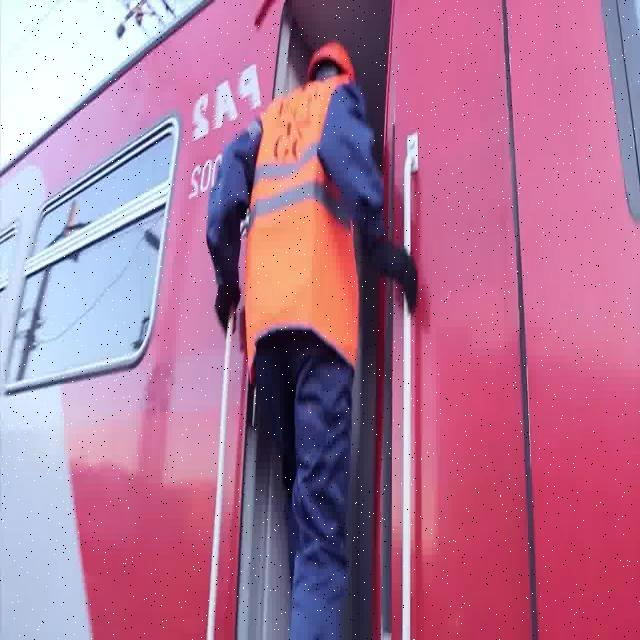Vest: (229, 79, 358, 366)
